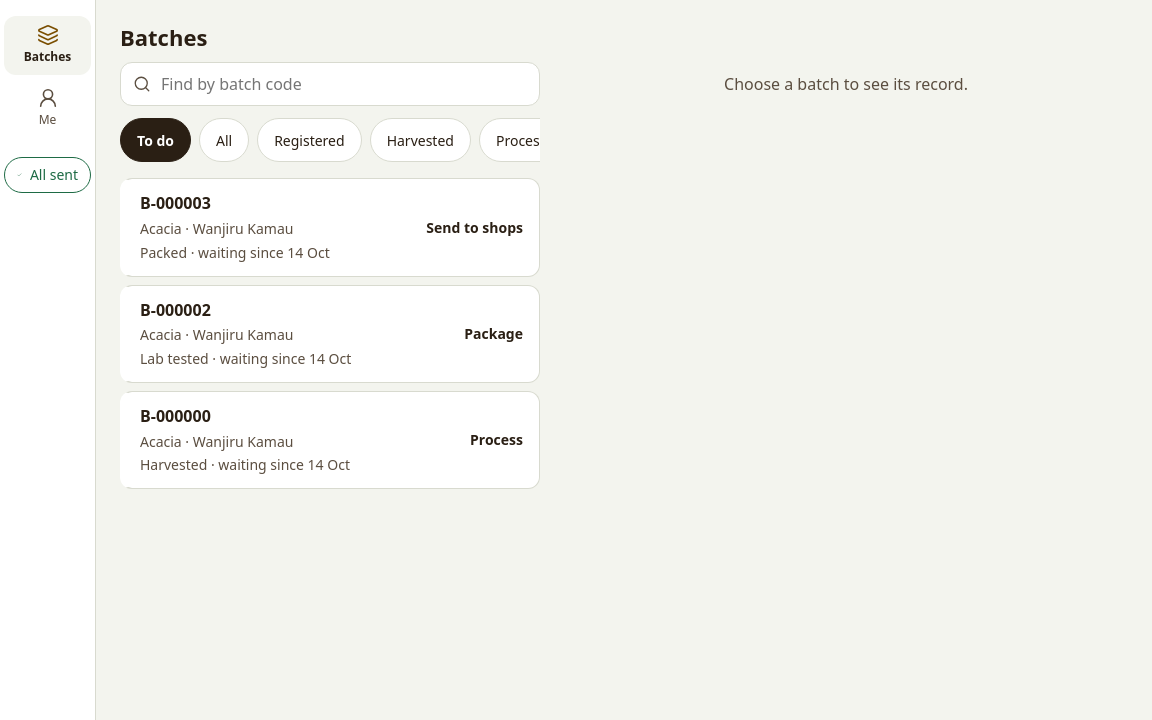
Test: Batches: the work queue › opens an operator on "To do": harvested, lab tested and packed, each with its step
Expected: the text "B-000000" is shown, [140,405,211,427]
Expected: the link "B-0000" shows "Acacia · Wanjiru Kamau", [120,178,540,277]
Click the button "All": (224, 140) [199,118,249,162]
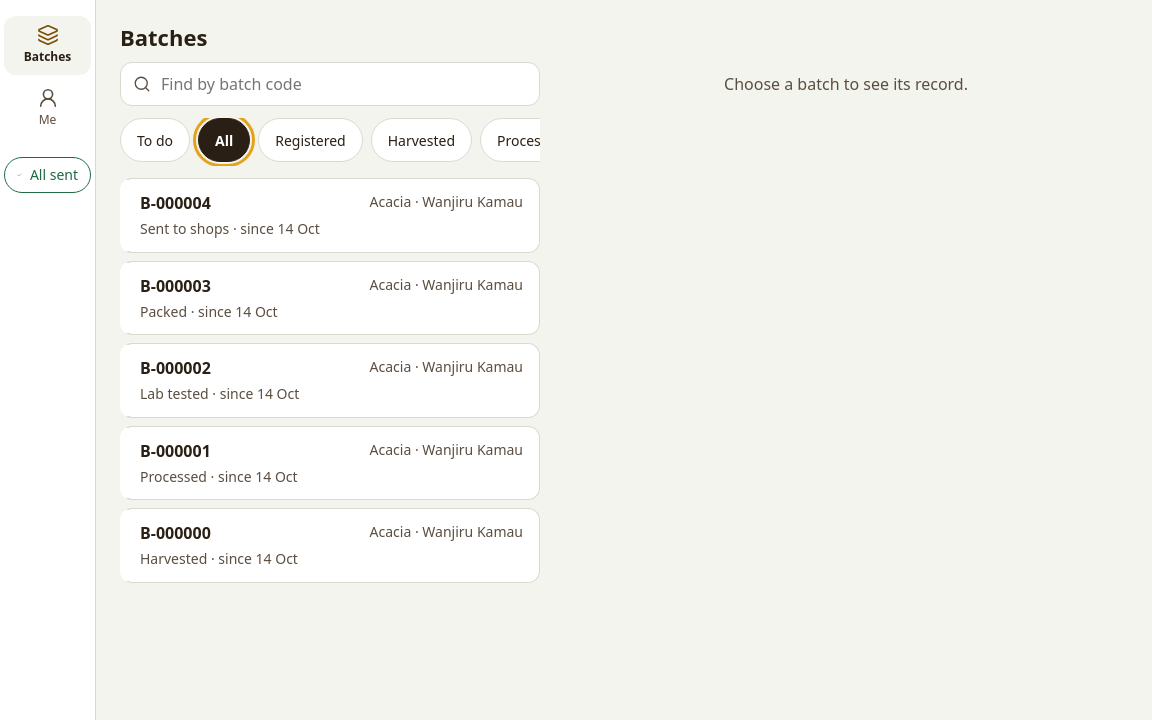
Now the text "B-000004" is shown, box [140,192,211,214]
